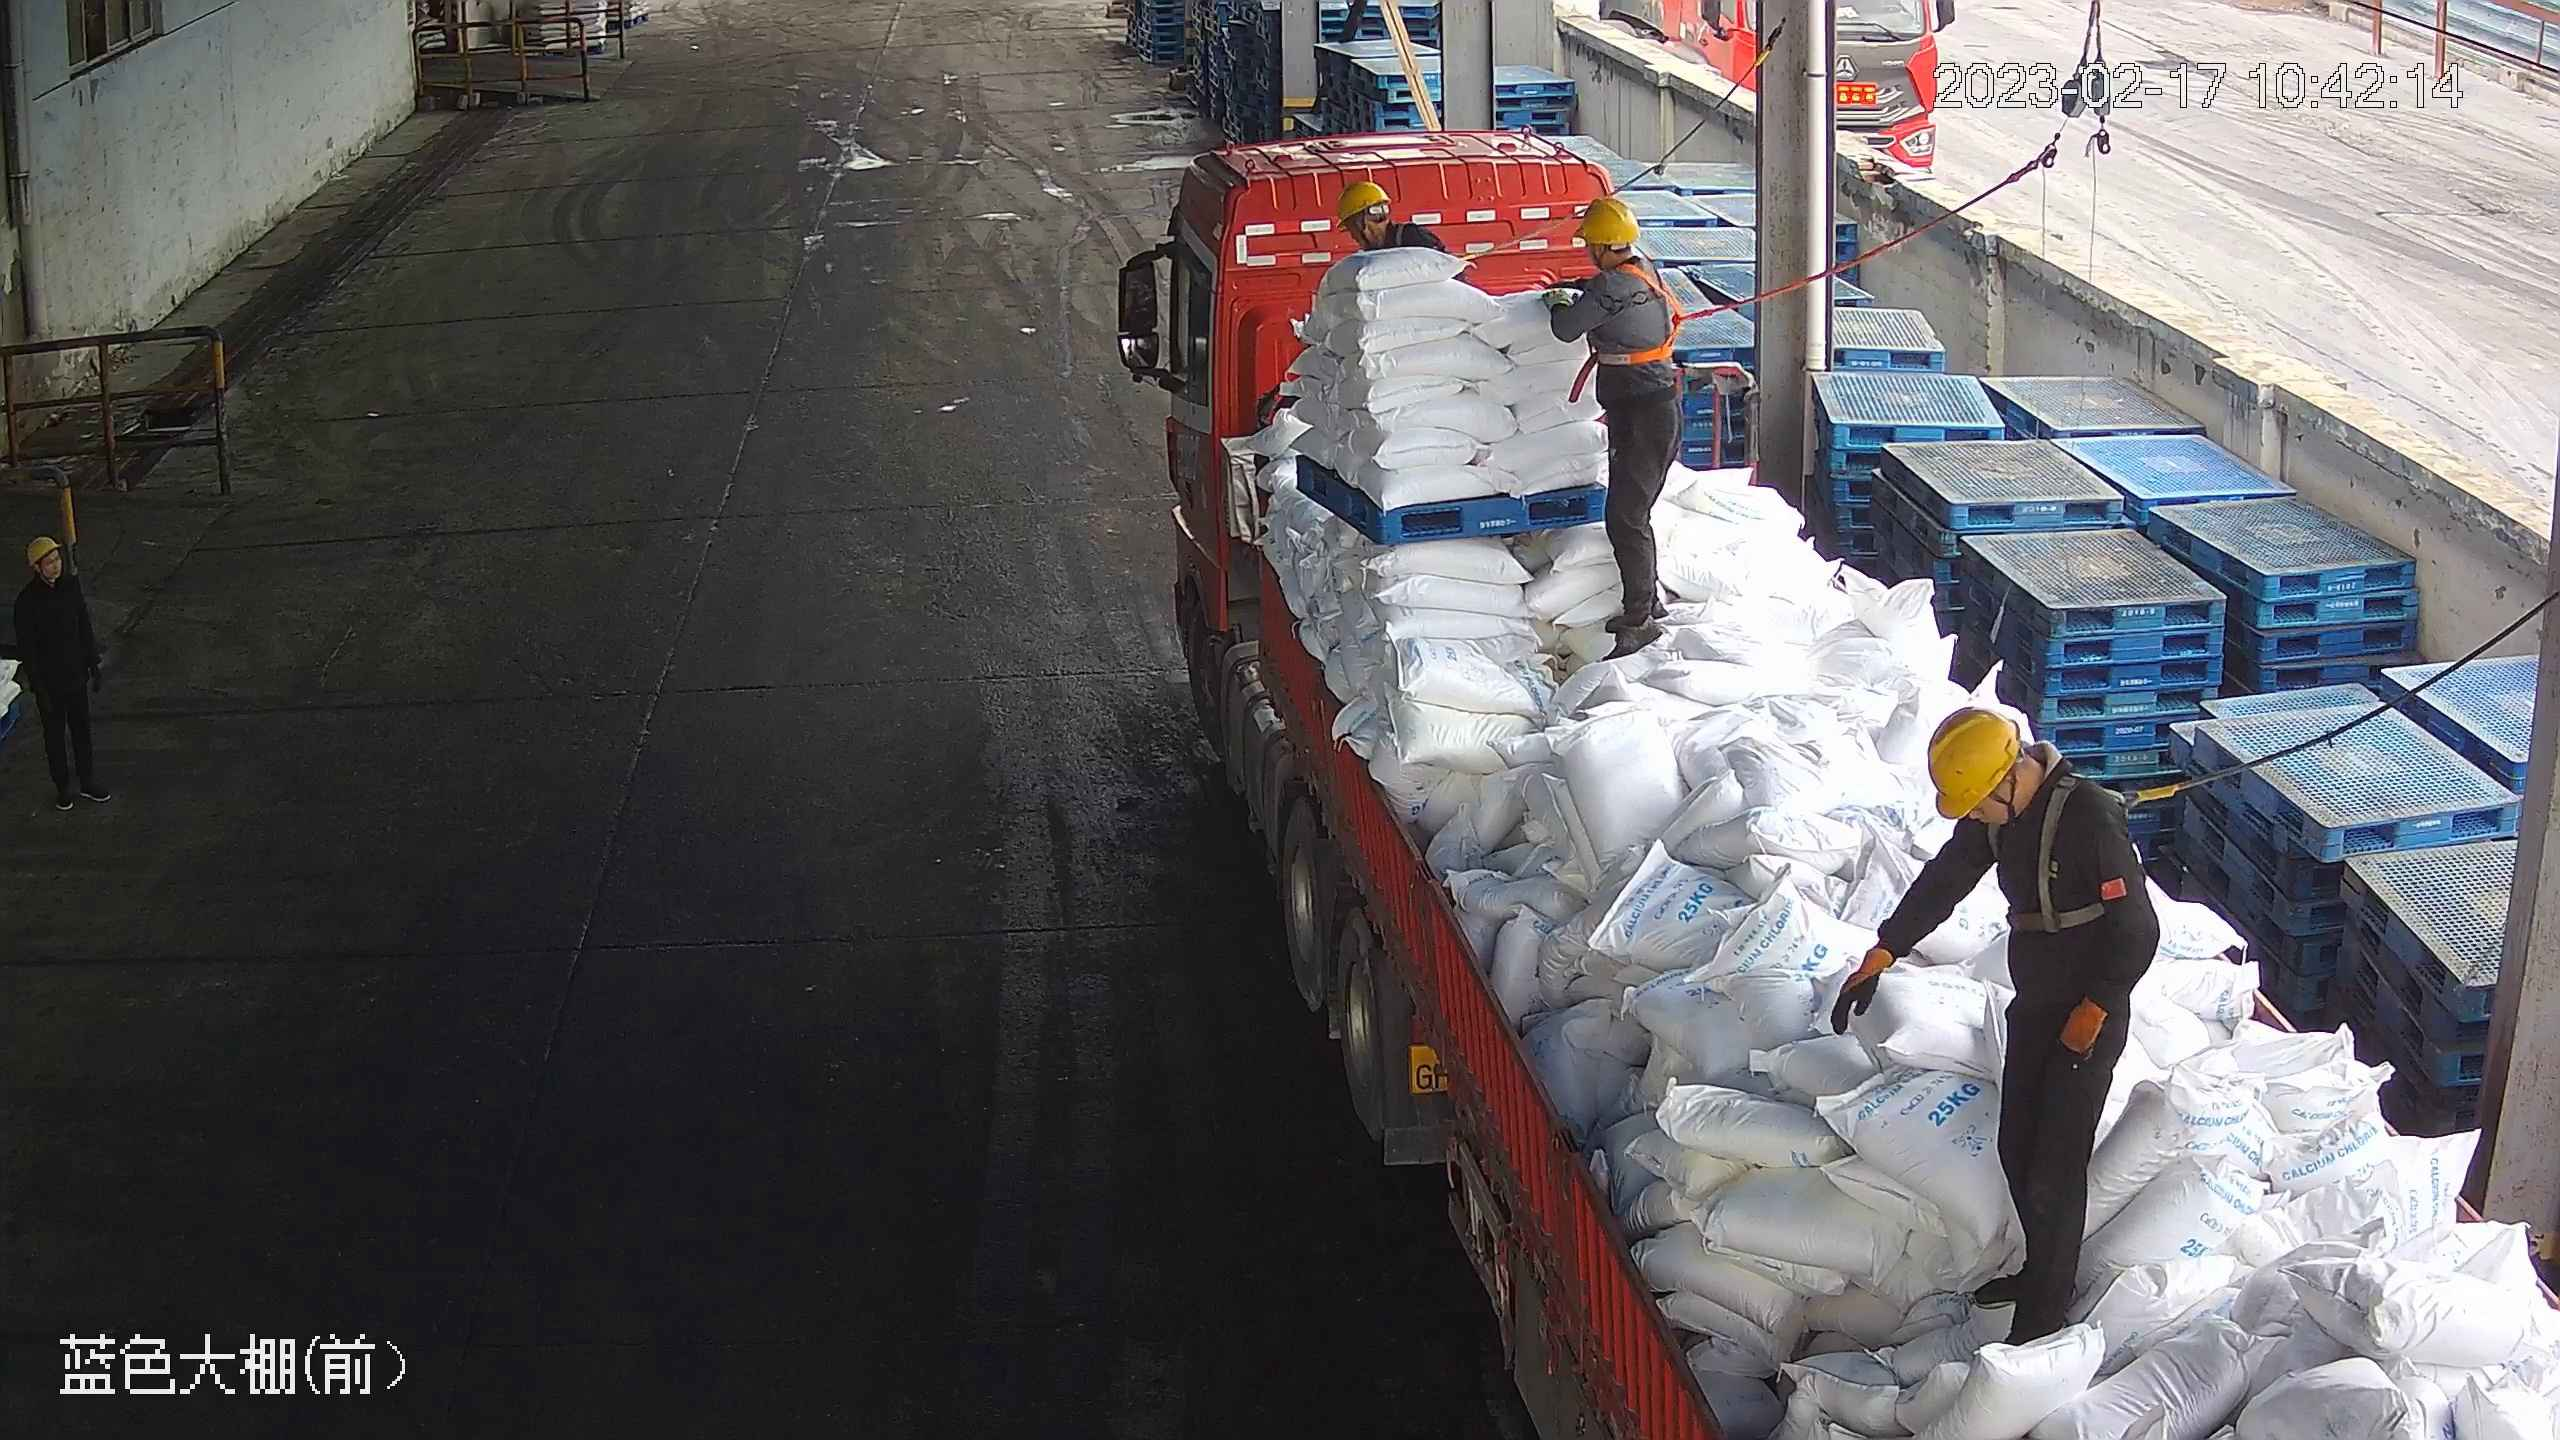belt: (1995, 756, 2141, 921), (1601, 258, 1706, 370)
head: (1918, 706, 2125, 910), (1553, 196, 1678, 334), (1334, 178, 1443, 267), (12, 534, 92, 618)
helmet: (1926, 707, 2023, 818), (1573, 195, 1640, 245), (1334, 176, 1394, 224), (24, 536, 63, 565)
people: (1834, 703, 2161, 1340), (1545, 196, 1688, 660), (8, 533, 114, 813)
truck: (1115, 137, 2560, 1436)
